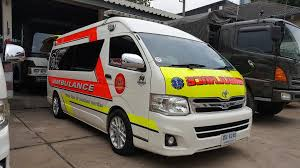van: (46, 16, 252, 158)
